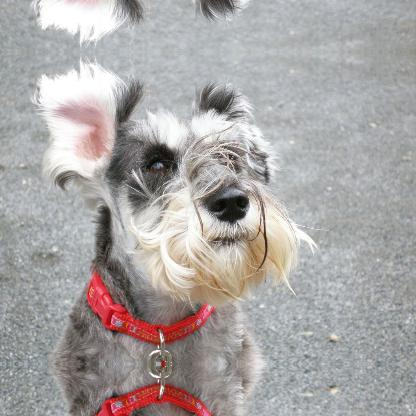Dog: (27, 52, 327, 362)
